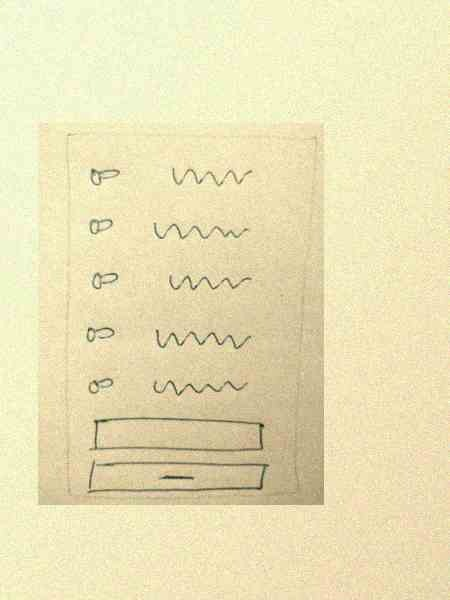button: (85, 457, 272, 498)
switch: (78, 371, 121, 399), (83, 164, 129, 189), (82, 317, 119, 347), (85, 267, 123, 293), (85, 212, 120, 238)
text: (149, 322, 254, 359), (160, 160, 257, 192), (147, 375, 251, 402), (149, 217, 255, 243), (163, 268, 256, 295)
text_input: (85, 413, 270, 454)
